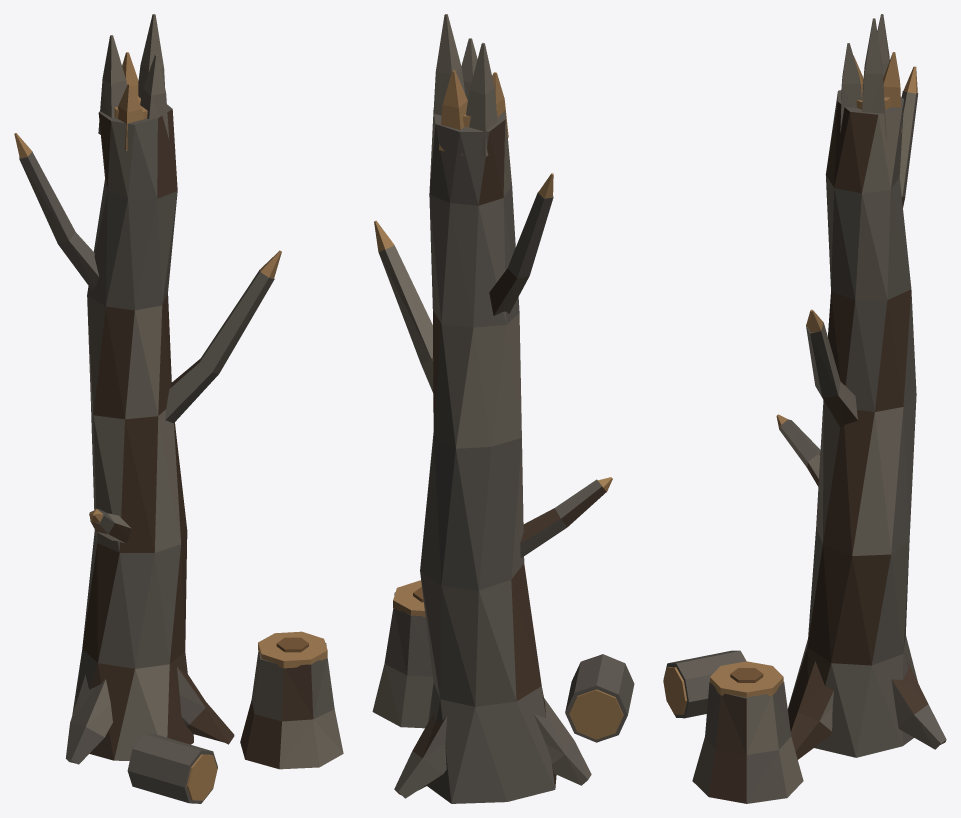
The model's file is dead_log_a.fbx.
3 renders of one model, left to right at view 1: azimuth 30°, elevation 25°; view 2: azimuth 150°, elevation 25°; view 3: azimuth 270°, elevation 25°, orthographic. The views are drawn at different scales.
Parts seen in each view (by area): view 1: dead_log_a; view 2: dead_log_a; view 3: dead_log_a.
Part boxes in pixels (x1=…): dead_log_a: x1=14, y1=14, x2=343, y2=803; dead_log_a: x1=372, y1=14, x2=634, y2=803; dead_log_a: x1=663, y1=14, x2=946, y2=803.
Size of the model in its own units: 1.05 by 2.92 by 1.04.
